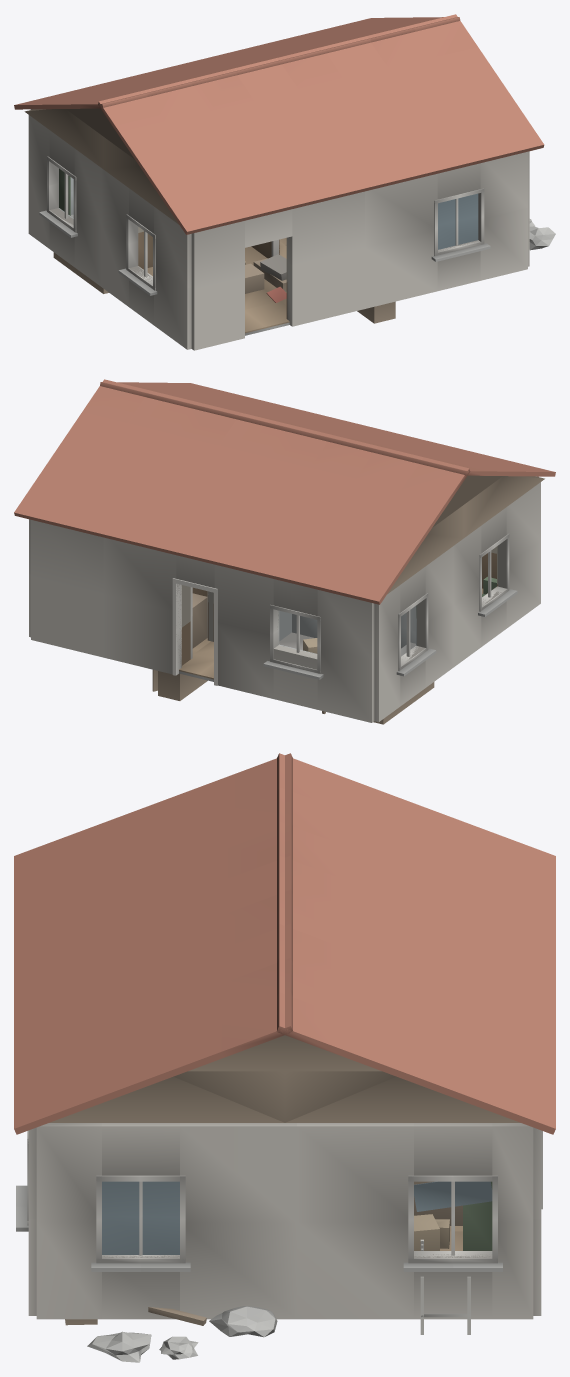
Rendered from casa_r9.glb.
3 views of the same model, one above another, from view 1: azimuth 30°, elevation 25°; view 2: azimuth 150°, elevation 25°; view 3: azimuth 270°, elevation 25° (orthographic). The views are drawn at different scales.
Visible parts, largest first — view 1: longe, ext, detalhe, dentro, tv_sala, guarda_roupa_quarto1, mesa_centro_sala; view 2: longe, ext, detalhe, dentro, guarda_roupa_quarto2, balcao_cozinha0; view 3: longe, ext, detalhe, dentro, berco_quarto20.
Boxes of the visible parts, bbox=[...] form: longe: bbox=[14, 14, 544, 234]; ext: bbox=[28, 109, 529, 350]; detalhe: bbox=[39, 156, 555, 295]; dentro: bbox=[59, 177, 289, 335]; tv_sala: bbox=[253, 254, 286, 291]; guarda_roupa_quarto1: bbox=[357, 301, 395, 323]; mesa_centro_sala: bbox=[245, 263, 264, 293]; longe: bbox=[14, 379, 555, 604]; ext: bbox=[29, 476, 540, 722]; detalhe: bbox=[172, 533, 517, 685]; dentro: bbox=[179, 546, 497, 681]; guarda_roupa_quarto2: bbox=[152, 593, 207, 700]; balcao_cozinha0: bbox=[373, 642, 434, 724]; longe: bbox=[14, 753, 555, 1134]; ext: bbox=[28, 1123, 541, 1319]; detalhe: bbox=[16, 1130, 542, 1362]; dentro: bbox=[414, 1214, 462, 1250]; berco_quarto20: bbox=[420, 1239, 470, 1334].
Size of what is drawn, in the model's own units: 10.16 by 5.59 by 7.64.
